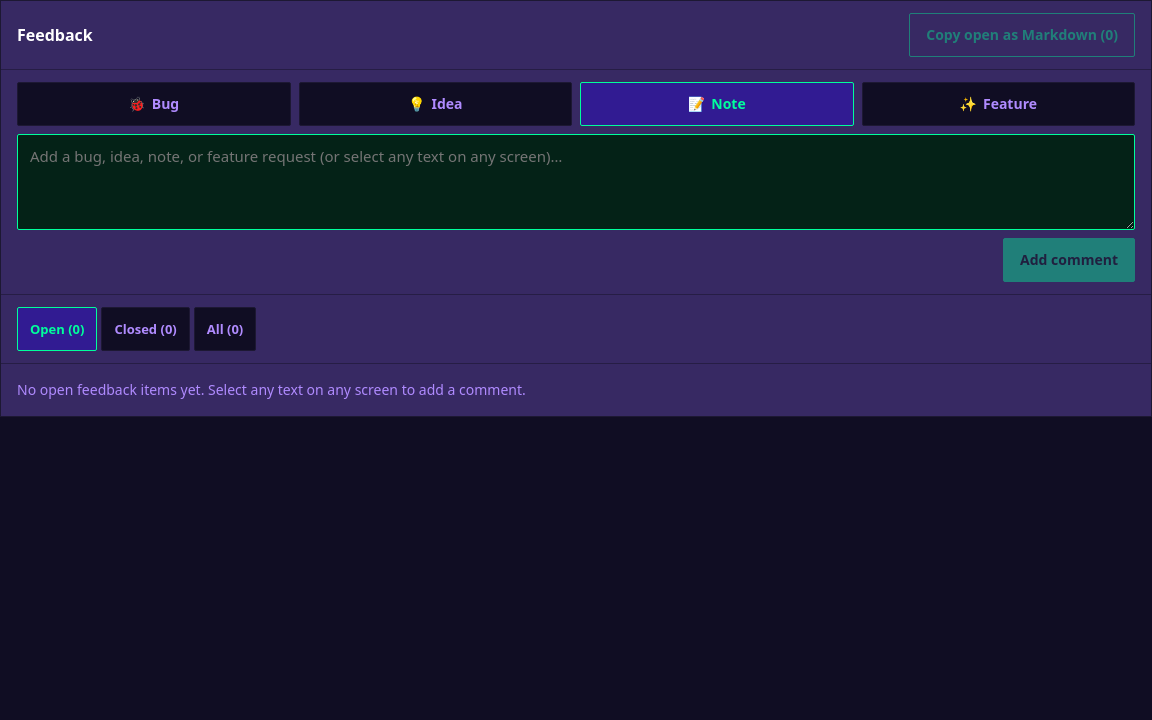
FeedbackSection › lets the owner add a general feedback item without selected text
The width and height of the screenshot is (1152, 720).
Check: the text "No open feedback items yet" is shown, box 1,363 -> 1151,416
Click the radio button labelled "💡 Idea": click(435, 104) 298,82 -> 572,126
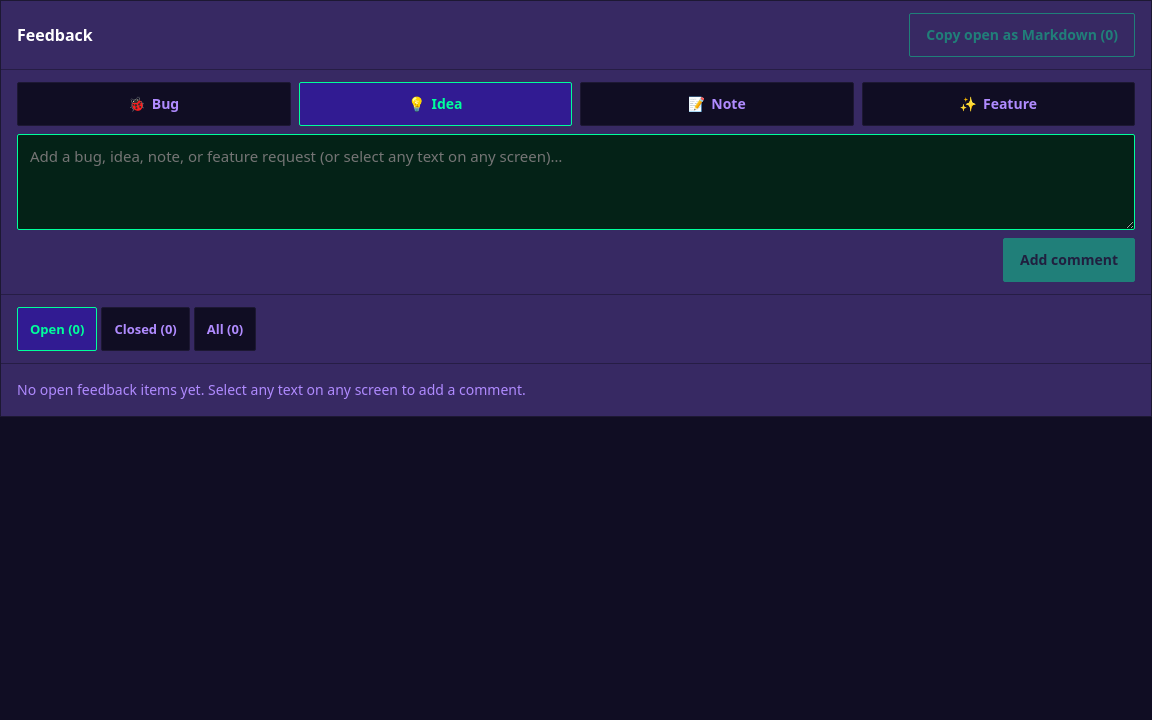
Replace the text in the text box named "New comment" with "General note from admin page": (576, 182) 17,134 -> 1135,230
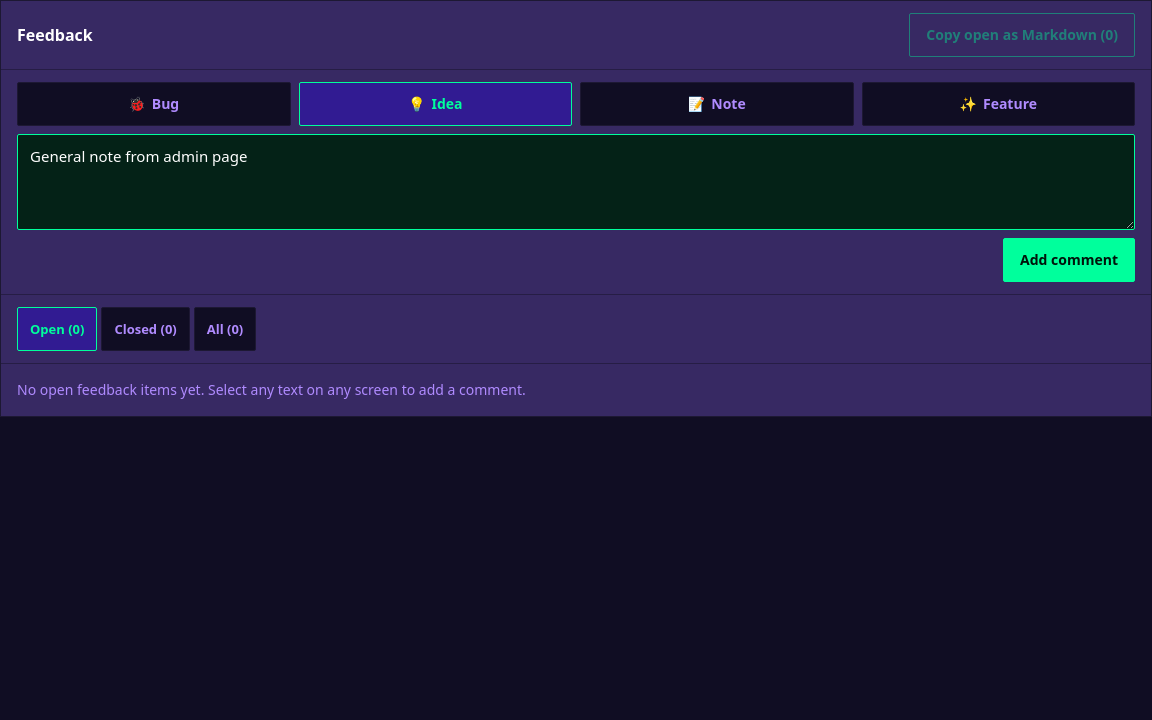
Click the button "Add comment": click(1069, 260) 1003,238 -> 1135,282
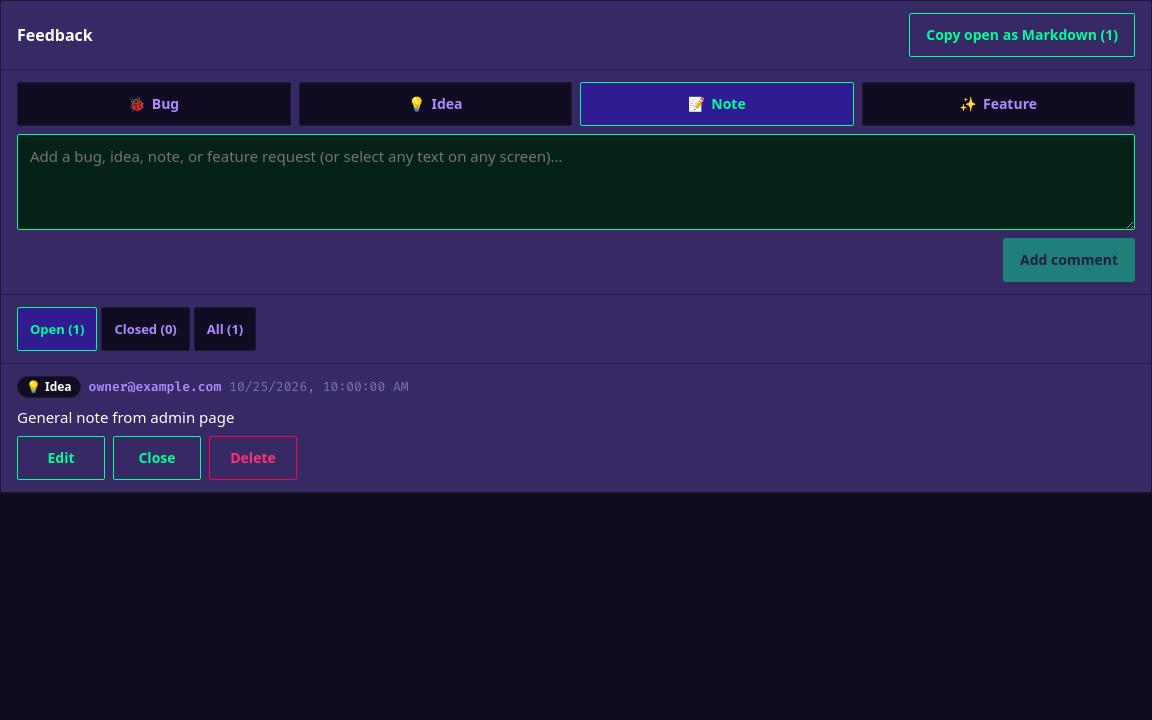
Check: the text "General note from admin page" is shown, box 17,407 -> 234,427
